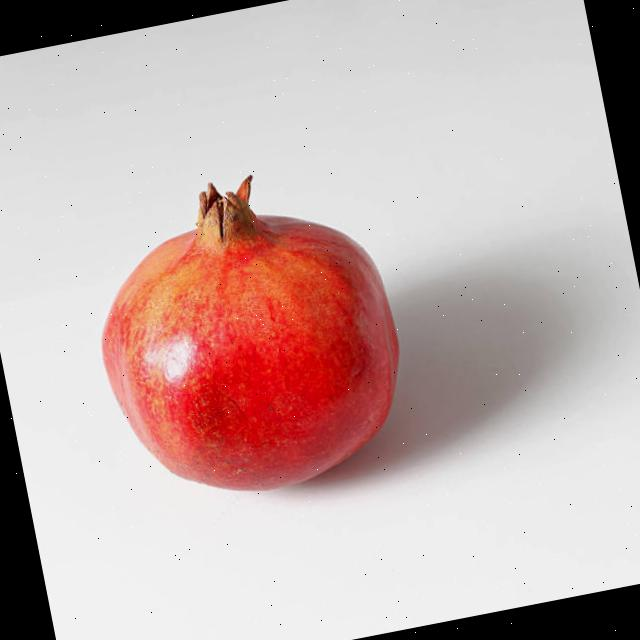Ripe: (63, 139, 430, 522)
